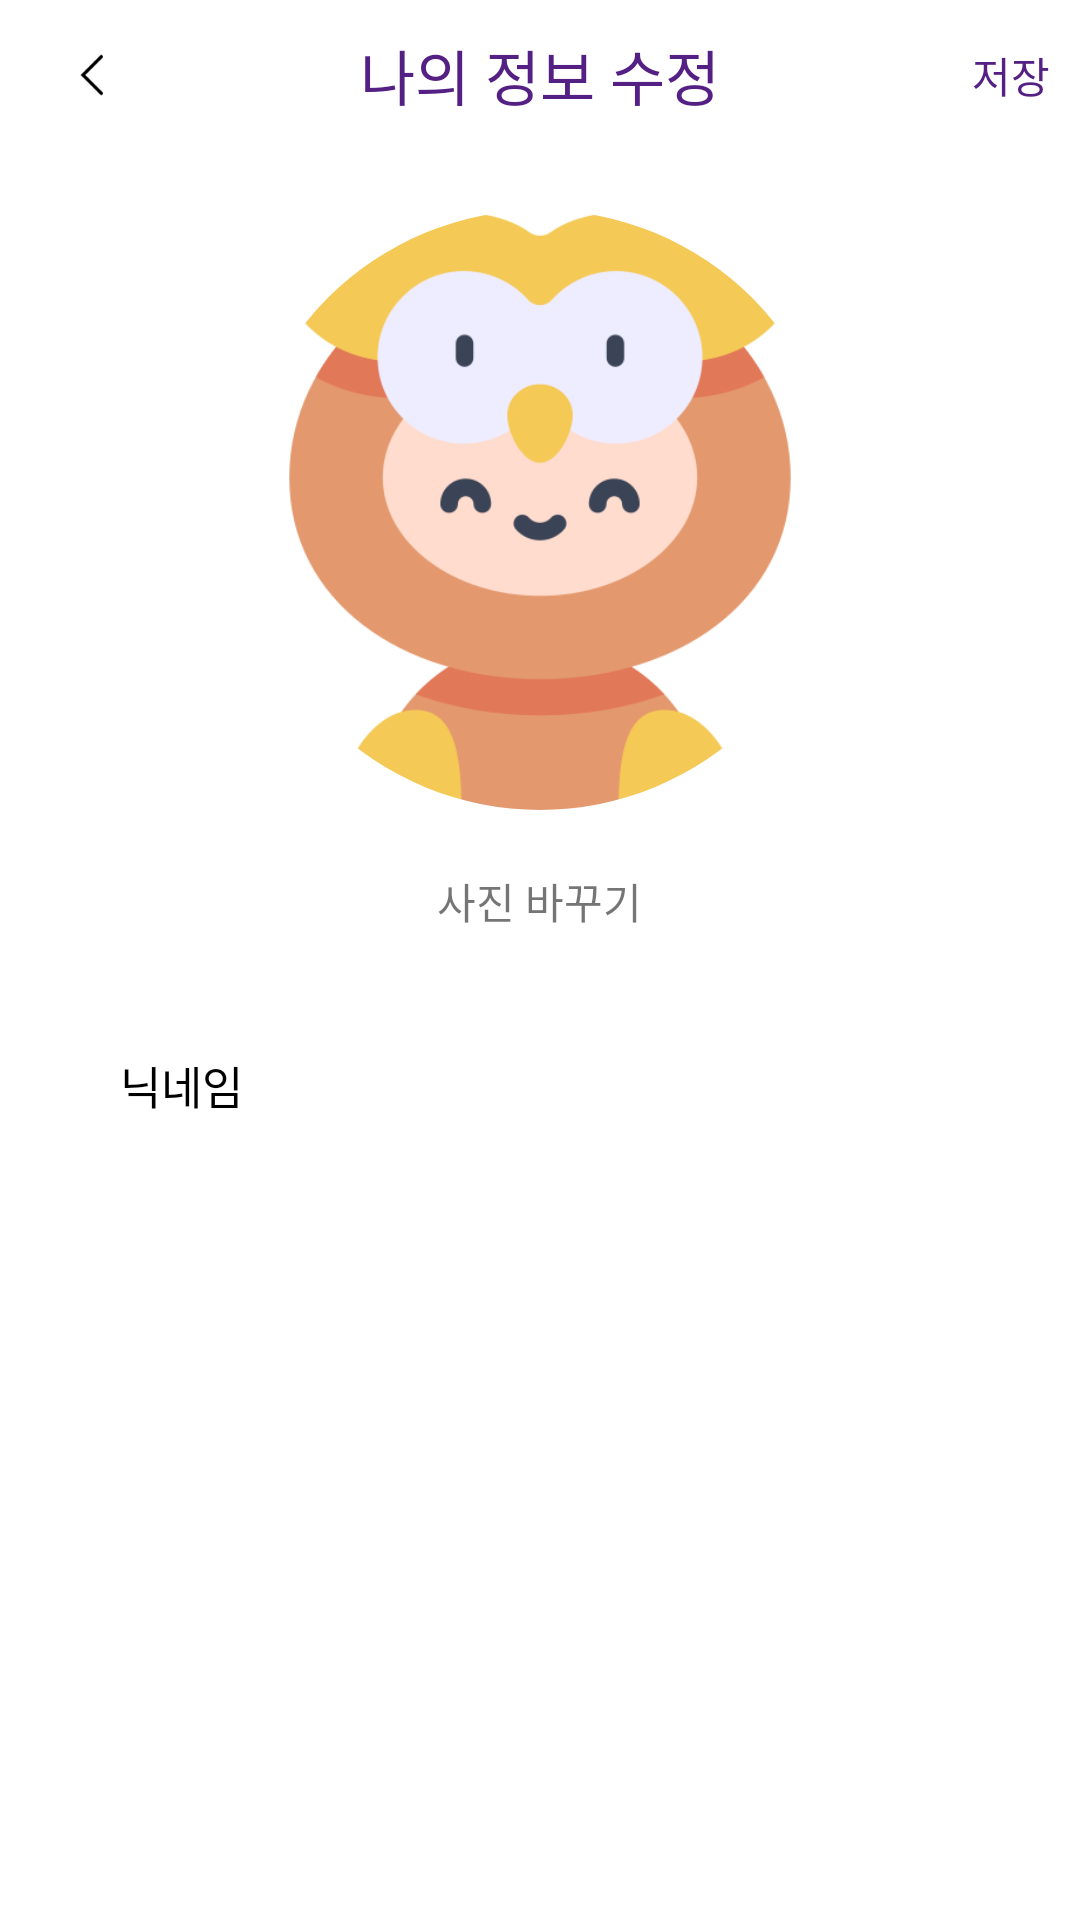

Icon click points for this 1080*1920 phone screenshot, format (x=x, y=y):
back: (x=91, y=75)
